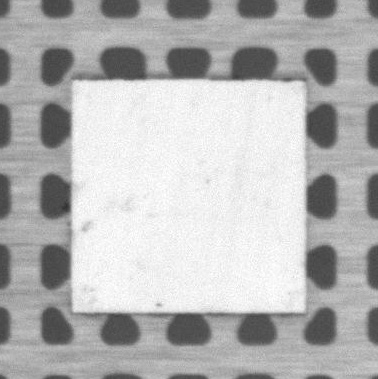DIE_INK: (105, 196, 149, 213), (79, 284, 100, 311), (78, 216, 96, 237), (203, 175, 216, 188), (153, 300, 166, 310)
